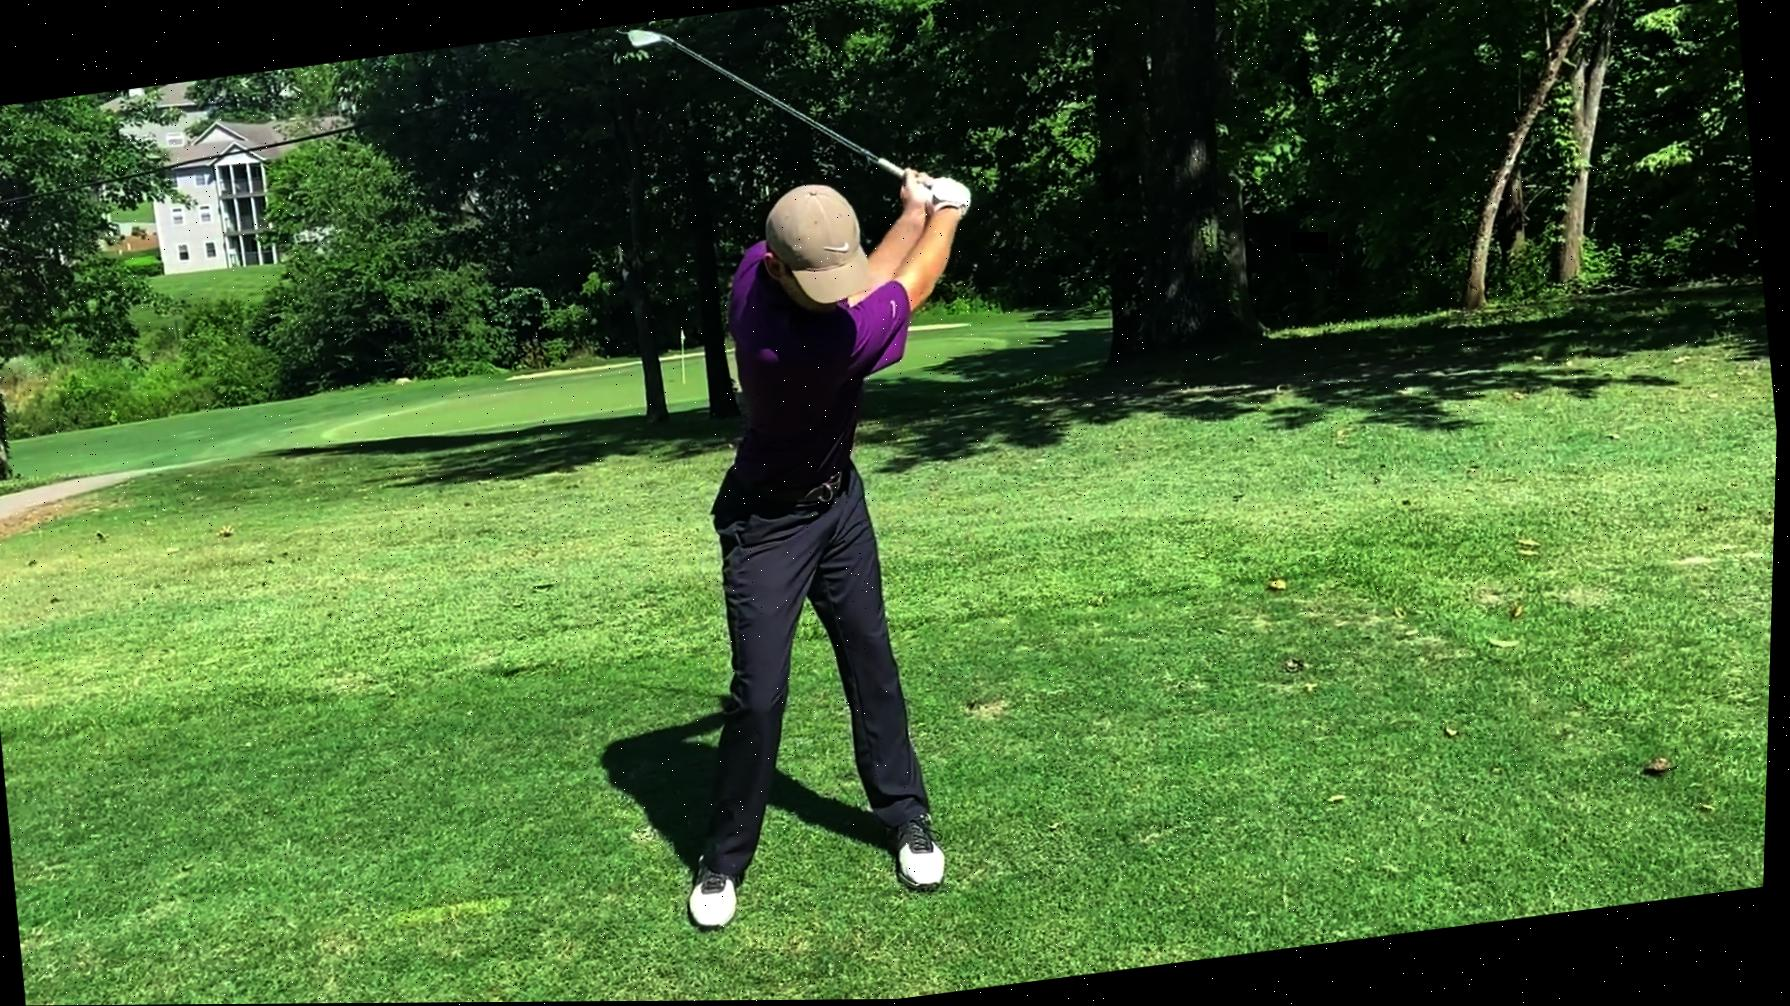ClubHead: (625, 21, 675, 54)
